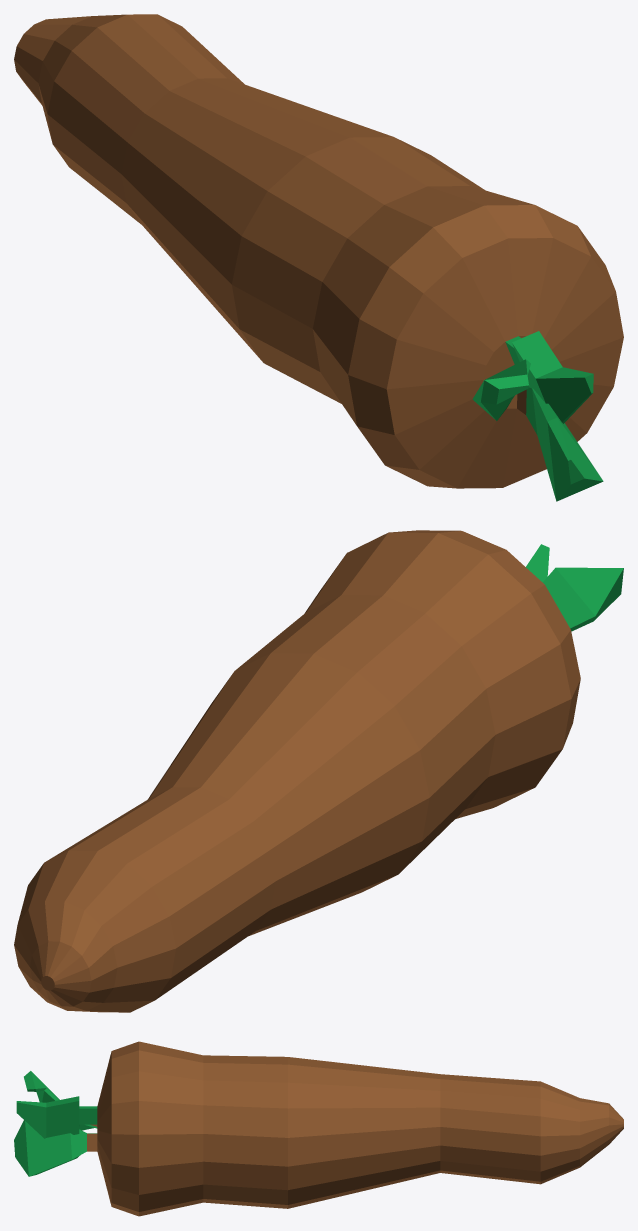
Rendered from Carrot.fbx.
The picture shows the model from 3 angles, top to bottom: view 1: azimuth 30°, elevation 25°; view 2: azimuth 150°, elevation 25°; view 3: azimuth 270°, elevation 25°; orthographic projection. The views are drawn at different scales.
Parts seen in each view (by area): view 1: Cylinder; view 2: Cylinder; view 3: Cylinder.
Boxes of the visible parts, x1,y1,x2,y2 form: Cylinder: [14, 14, 623, 501]; Cylinder: [14, 530, 623, 1012]; Cylinder: [14, 1041, 623, 1216].
Size of the model in its own units: 230 by 230 by 801.
